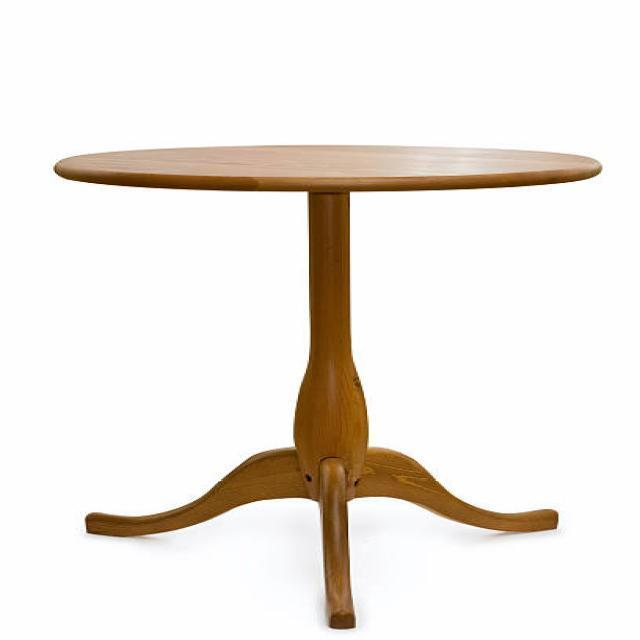table: (52, 144, 602, 628)
